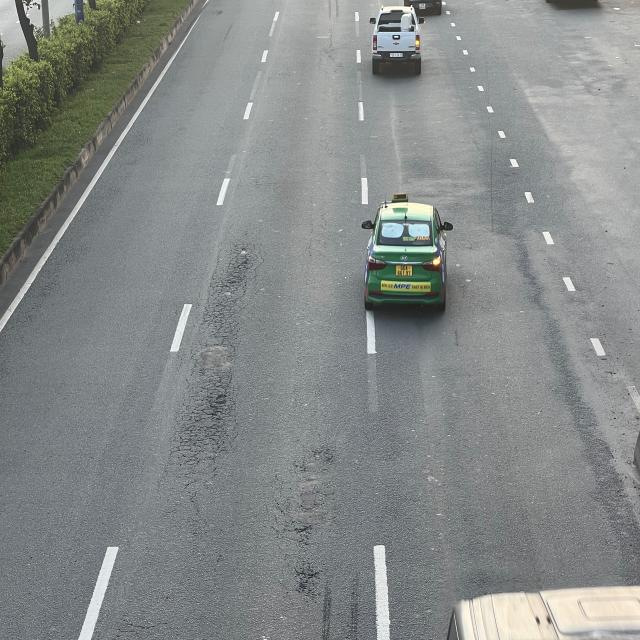car: (363, 200, 453, 312), (370, 3, 425, 72)
